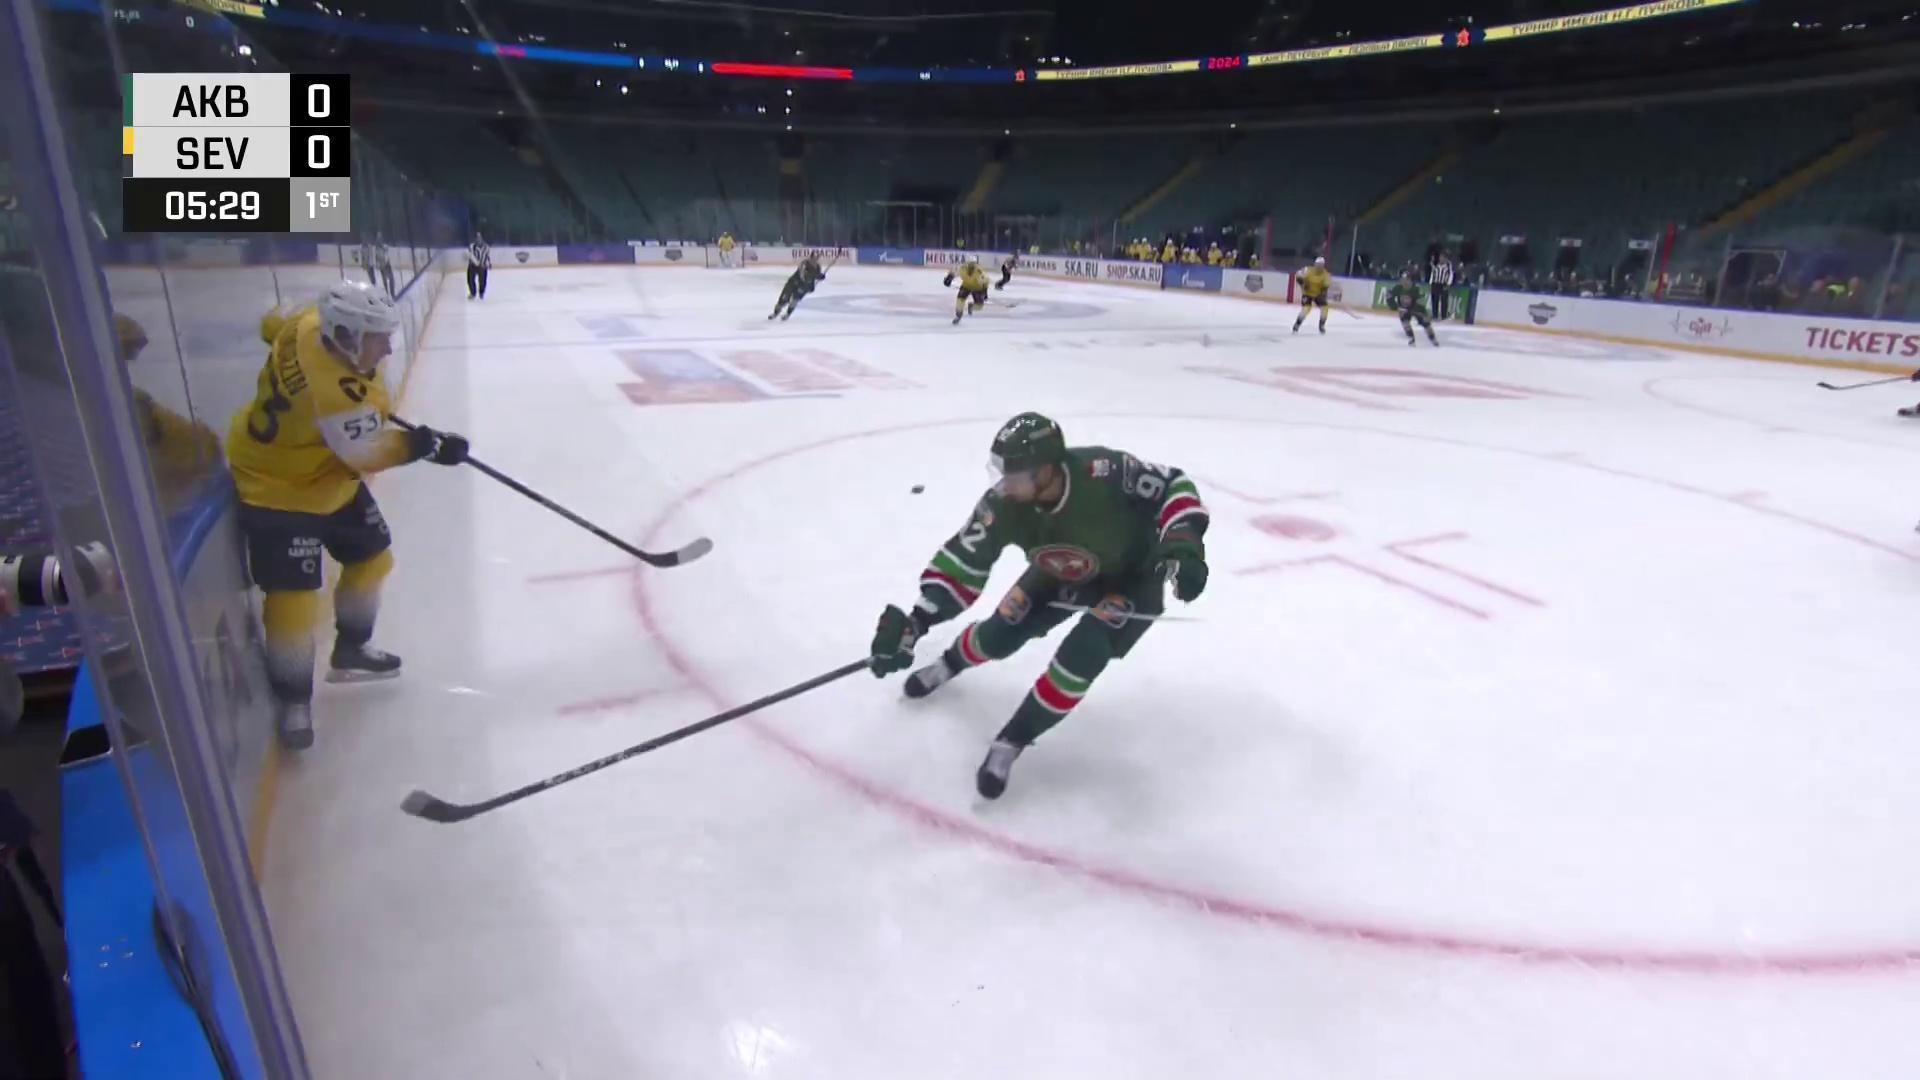ball: (913, 484, 926, 493)
